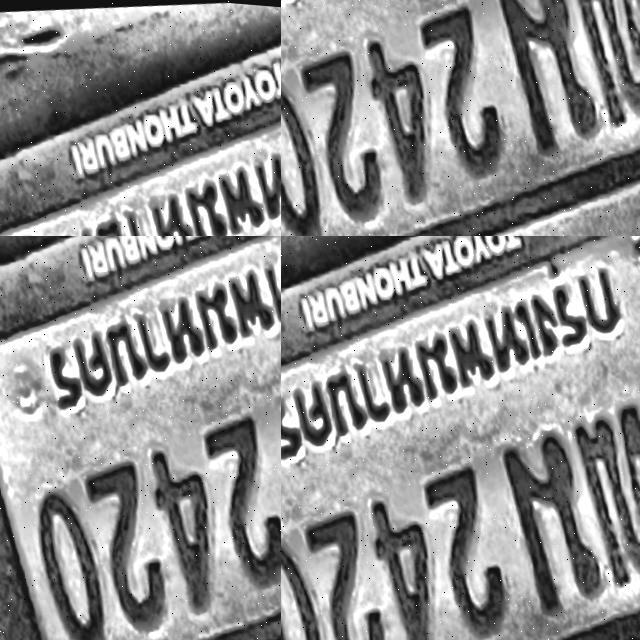license-plate: (281, 236, 640, 640), (247, 236, 281, 351)
